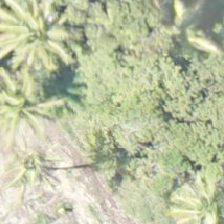Kelapa_Sawit: (2, 0, 92, 89), (0, 118, 80, 208), (0, 57, 67, 147), (34, 0, 124, 53), (167, 160, 223, 223)
